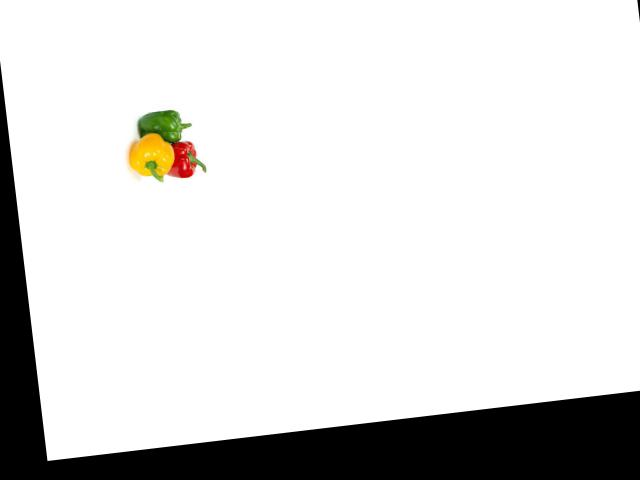bell_pepper: (156, 132, 212, 187)
